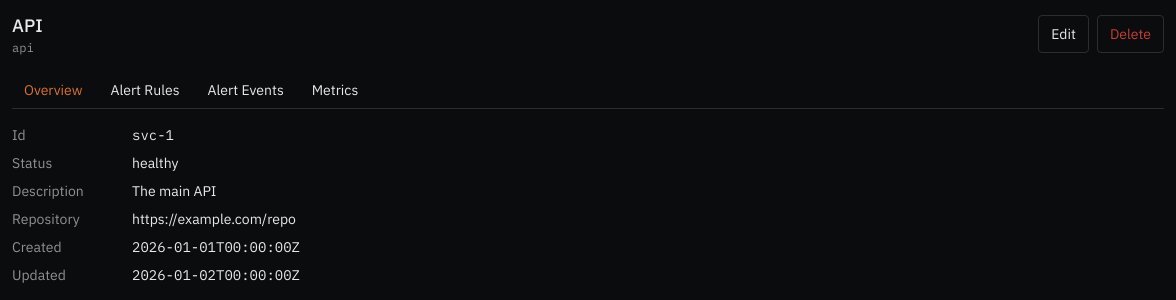
Test: ServiceDetailPage › renders all four tabs, each showing real content
This screenshot has width=1176, height=300.
Expected: the heading "API" is shown, [12,12,43,40]
What coordinates should you click on to do the following:
click the tab "Alert Rules"
I would click on:
 (145, 90)
Its box is [98,72,192,108].
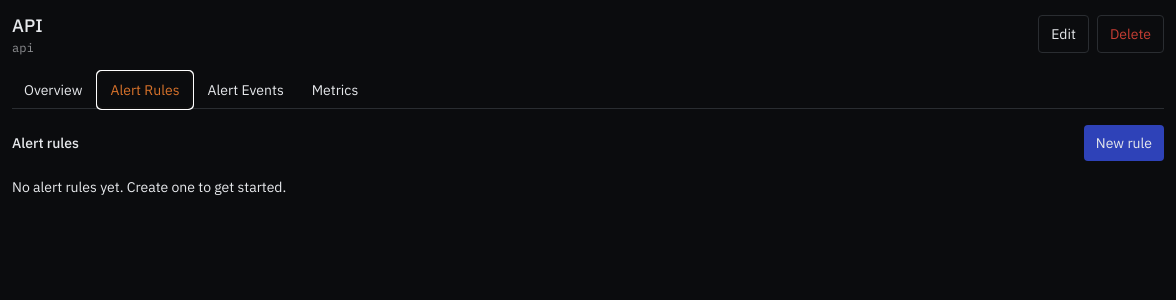
Result: the text "No alert rules yet. Create one to get started." is shown at [12,178,286,196]
What coordinates should you click on to do the following:
click the tab "Alert Events"
I would click on:
 (246, 90)
Its box is [196,72,296,108].
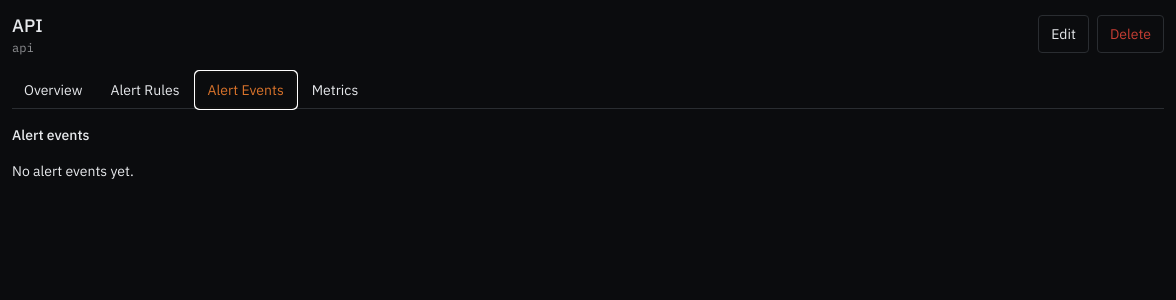
Result: the text "No alert events yet." is shown at [12,162,134,180]
What coordinates should you click on to do the following:
click the tab "Metrics"
I would click on:
 (335, 90)
Its box is [300,72,370,108].
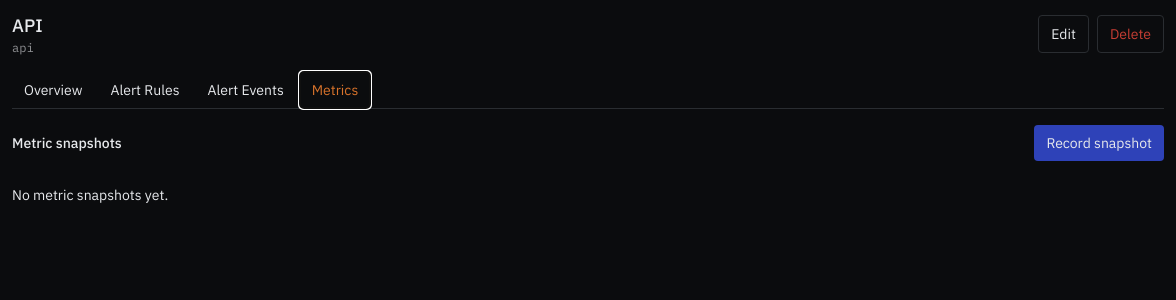
Result: the text "No metric snapshots yet." is shown at [12,186,168,204]
